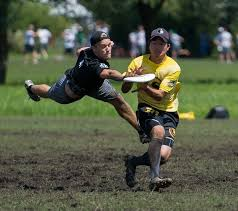disc: (125, 73, 156, 82)
